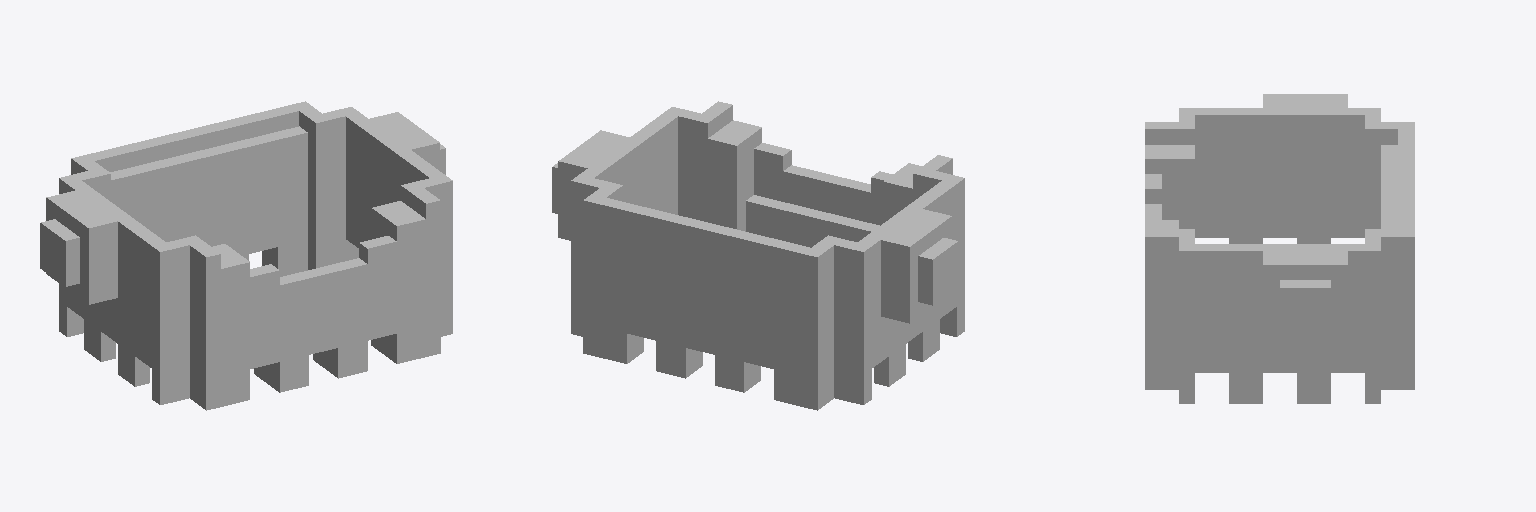
File: knight armor.vox.obj
3 renders of one model, left to right at view 1: azimuth 30°, elevation 25°; view 2: azimuth 150°, elevation 25°; view 3: azimuth 270°, elevation 25°, orthographic.
Parts seen in each view (by area): view 1: object 1; view 2: object 1; view 3: object 1.
Boxes of the visible parts, x1,y1,x2,y2 form: object 1: [40, 101, 452, 410]; object 1: [552, 101, 964, 410]; object 1: [1145, 94, 1414, 403].
Size of the model in its own units: 2.6 by 1 by 1.6.